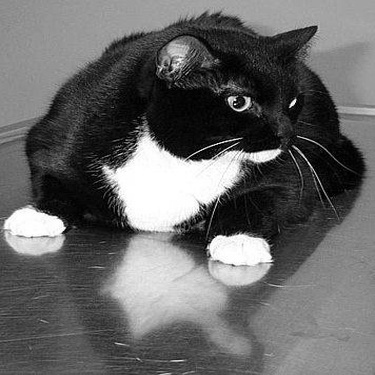cat: (1, 8, 365, 271)
